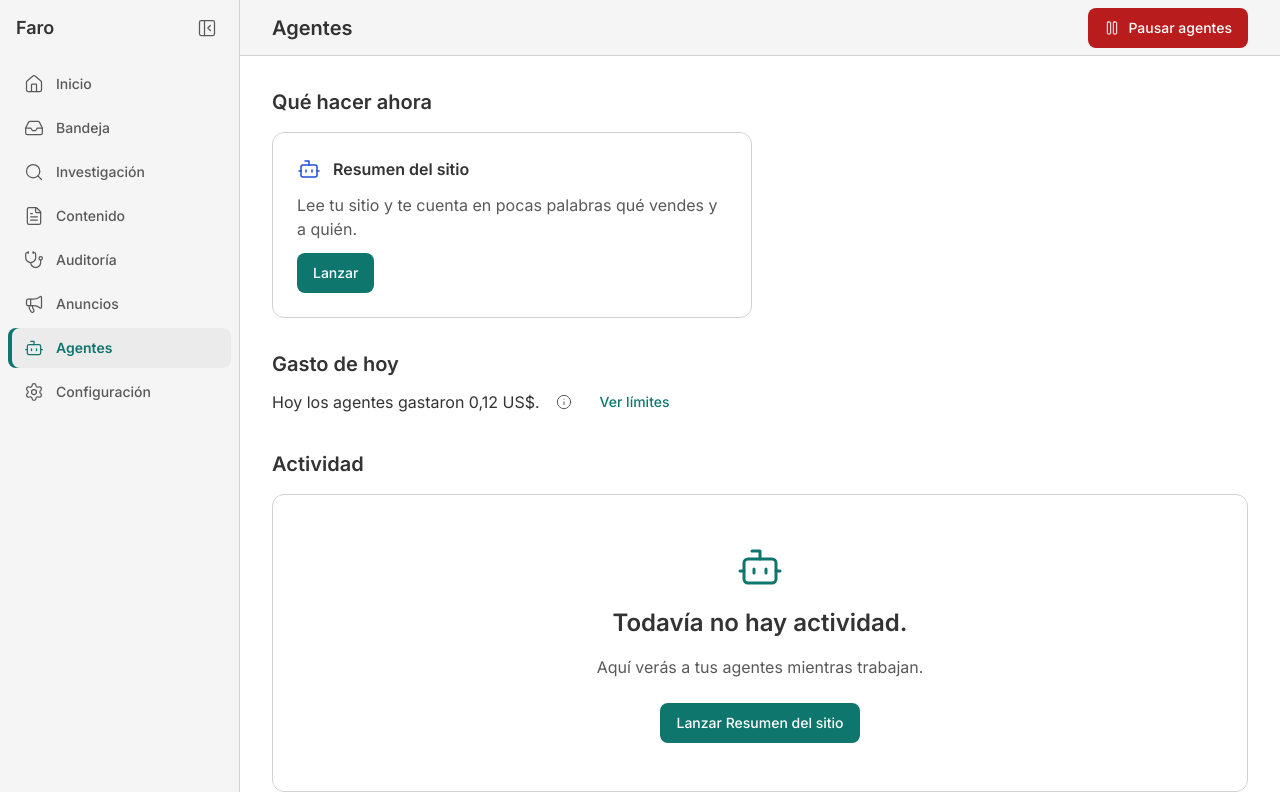
it: Lanzar Resumen del sitio (spec F1b §3.3) › éxito: costo con Intl, clave, gasto de hoy, desglose y lanzar con el máximo visto
This screenshot has width=1280, height=792.
Click the button with aria-label "Lanzar Resumen del sitio": (336, 273) [297,253,374,293]
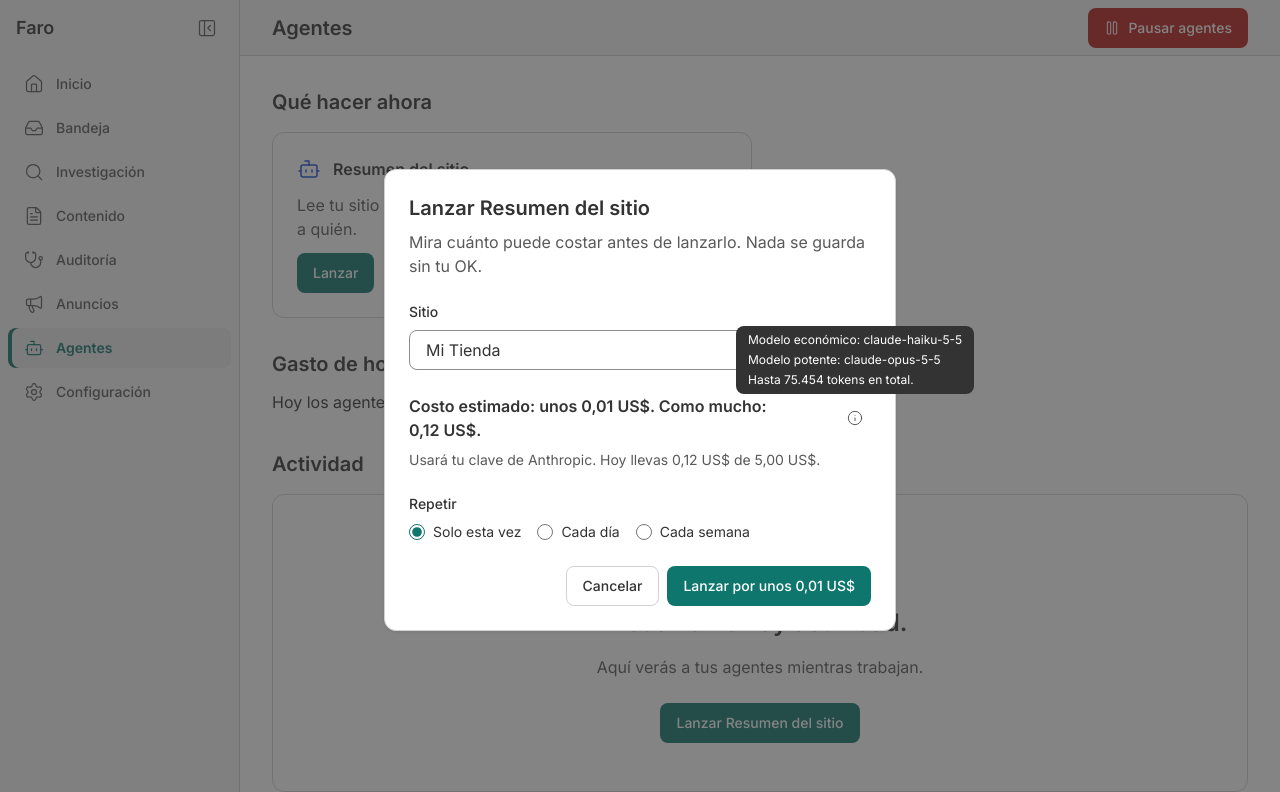
Now the dropdown labelled "Sitio" shows "Mi Tienda", box [409,330,871,370]
Type keys "{Shift>}{Tab}{/Shift}{Tab}"
Click the button "Lanzar por unos 0,01 US$": (769, 586) [667,566,871,606]
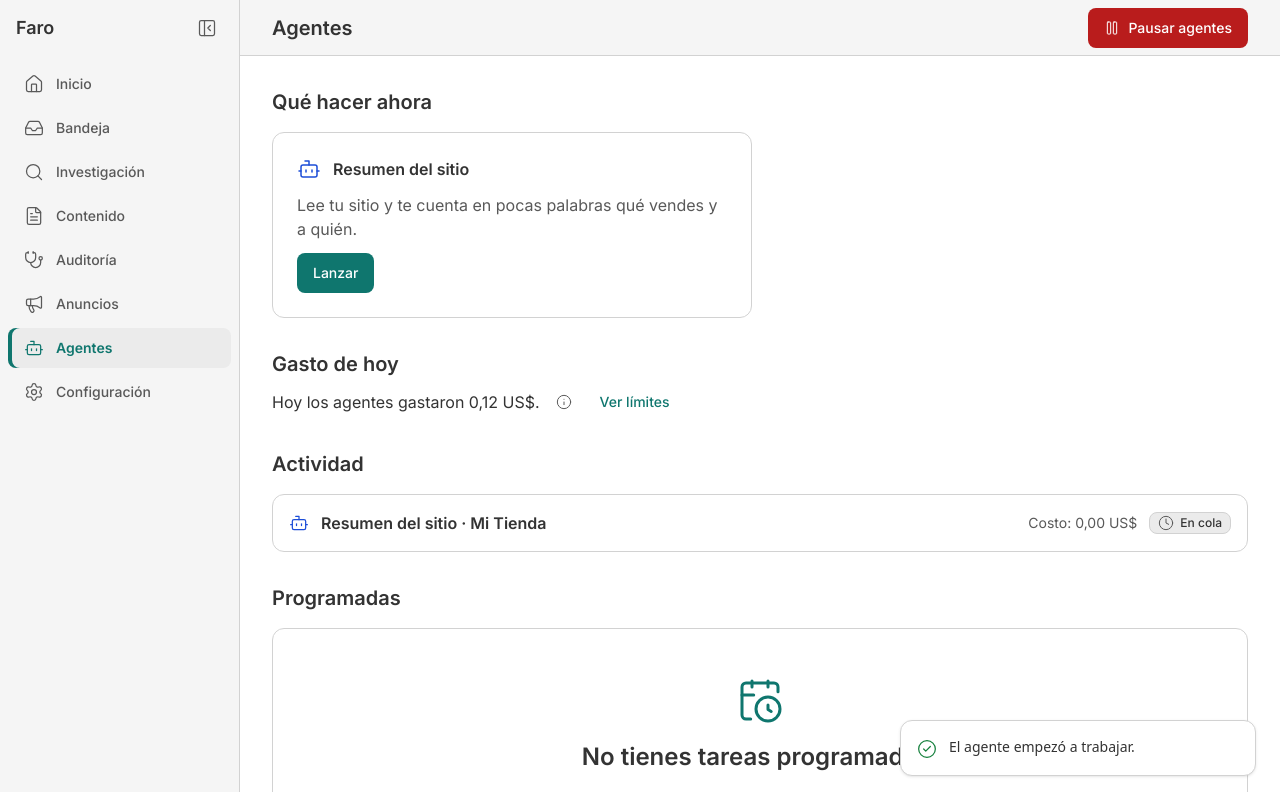
Now the text "El agente empezó a trabajar." is shown, box [949,737,1135,757]
Now the dialog is gone
Now the text "En cola" is shown, box [1149,512,1231,534]
